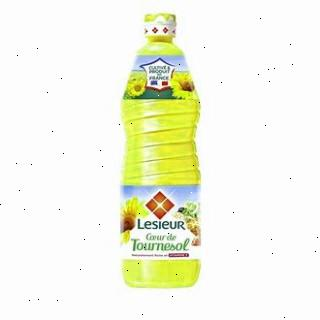Plastic-bottle: (118, 8, 208, 301)
